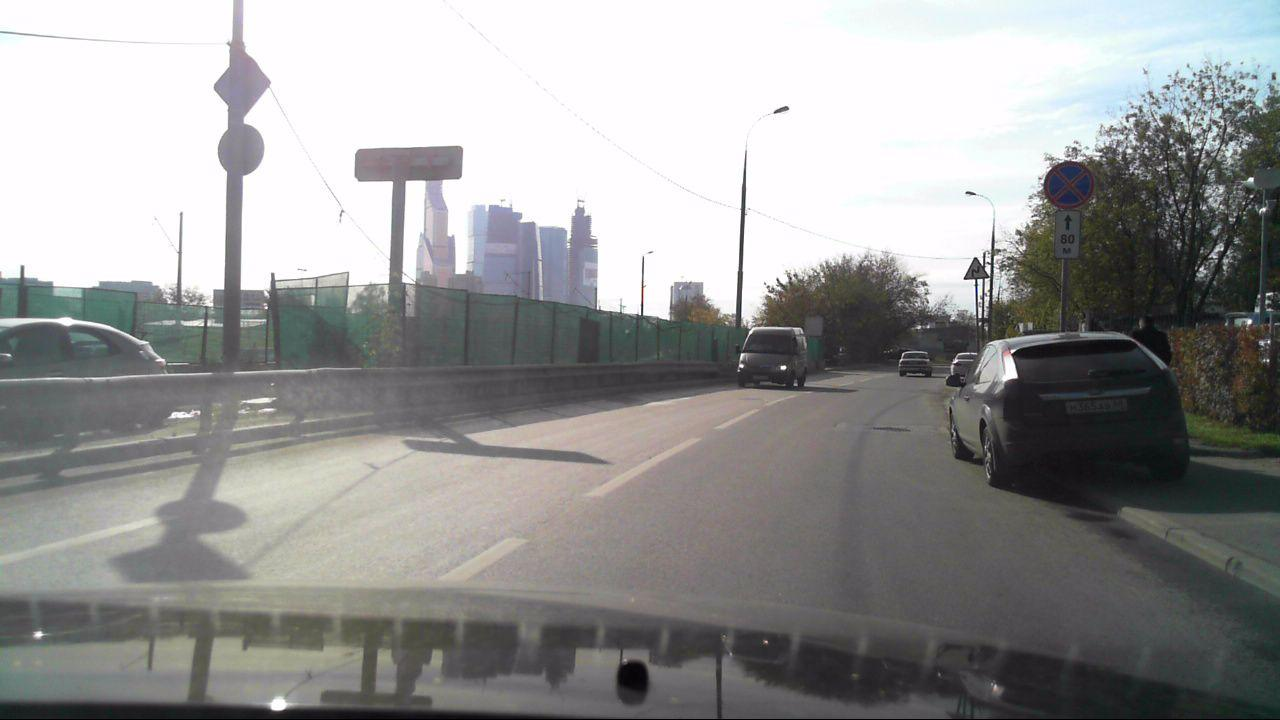1_12_1: (963, 255, 990, 282)
3_27: (1044, 159, 1093, 209)
8_2_2: (1054, 209, 1083, 258)
